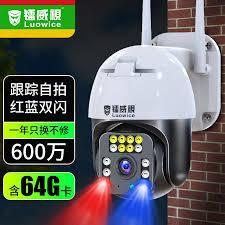maru: (91, 43, 199, 208)
